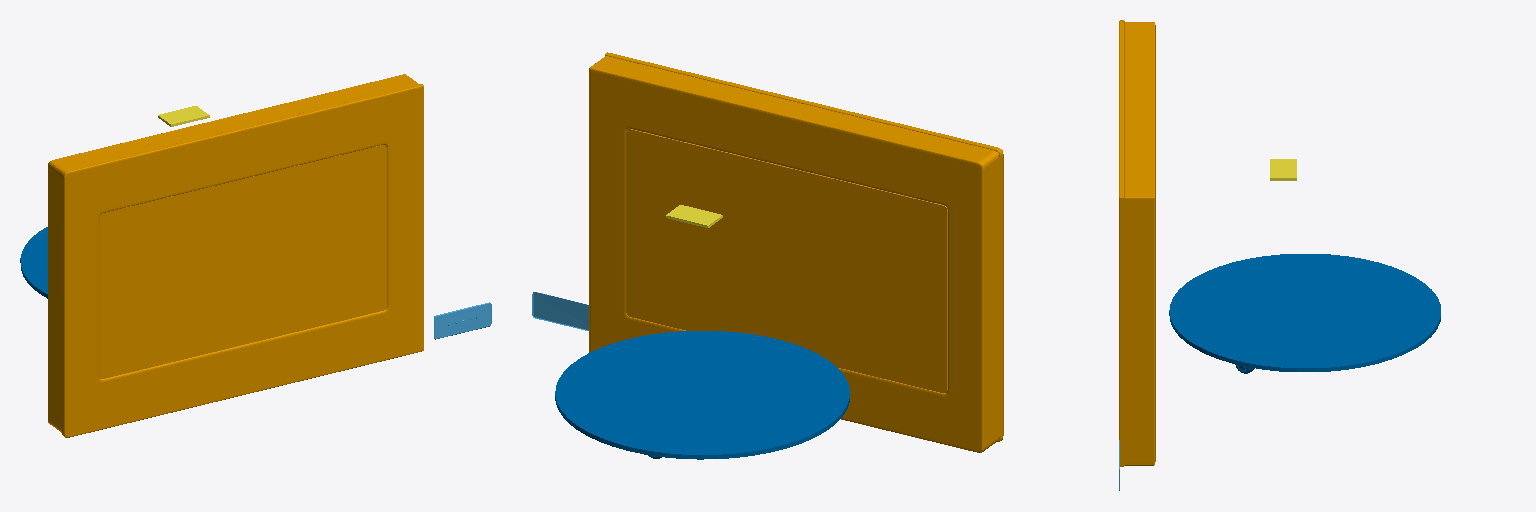
The robot description file, URDF, robot "small_appliances__microwave__microwave_1":
<?xml version="1.0"?>
<robot name="small_appliances__microwave__microwave_1">
  <link name="link_1">
    <visual>
      <origin xyz="0.000000000 0.000000000 0.000000000" rpy="0.000000000 0.000000000 0.000000000"/>
      <geometry>
        <mesh filename="./meshes/link_1.obj"/>
      </geometry>
    </visual>
    <collision>
      <origin xyz="0.000000000 0.000000000 0.000000000" rpy="0.000000000 0.000000000 0.000000000"/>
      <geometry>
        <mesh filename="./meshes/link_1.obj"/>
      </geometry>
    </collision>
  </link>
  <link name="link_11">
    <visual>
      <origin xyz="0.000000000 0.000000000 0.000000000" rpy="0.000000000 0.000000000 0.000000000"/>
      <geometry>
        <mesh filename="./meshes/link_11.obj"/>
      </geometry>
    </visual>
    <collision>
      <origin xyz="0.000000000 0.000000000 0.000000000" rpy="0.000000000 0.000000000 0.000000000"/>
      <geometry>
        <mesh filename="./meshes/link_11.obj"/>
      </geometry>
    </collision>
  </link>
  <link name="link_12">
    <visual>
      <origin xyz="0.000000000 0.000000000 0.000000000" rpy="0.000000000 0.000000000 0.000000000"/>
      <geometry>
        <mesh filename="./meshes/link_12.obj"/>
      </geometry>
    </visual>
    <collision>
      <origin xyz="0.000000000 0.000000000 0.000000000" rpy="0.000000000 0.000000000 0.000000000"/>
      <geometry>
        <mesh filename="./meshes/link_12.obj"/>
      </geometry>
    </collision>
  </link>
  <link name="link_23">
    <visual>
      <origin xyz="0.000000000 0.000000000 0.000000000" rpy="0.000000000 0.000000000 0.000000000"/>
      <geometry>
        <mesh filename="./meshes/link_23.obj"/>
      </geometry>
    </visual>
    <collision>
      <origin xyz="0.000000000 0.000000000 0.000000000" rpy="0.000000000 0.000000000 0.000000000"/>
      <geometry>
        <mesh filename="./meshes/link_23.obj"/>
      </geometry>
    </collision>
  </link>
  <link name="link_7">
    <visual>
      <origin xyz="0.000000000 0.000000000 0.000000000" rpy="0.000000000 0.000000000 0.000000000"/>
      <geometry>
        <mesh filename="./meshes/link_7.obj"/>
      </geometry>
    </visual>
    <collision>
      <origin xyz="0.000000000 0.000000000 0.000000000" rpy="0.000000000 0.000000000 0.000000000"/>
      <geometry>
        <mesh filename="./meshes/link_7.obj"/>
      </geometry>
    </collision>
  </link>
  <joint name="joint_0" type="revolute">
    <parent link="link_12"/>
    <child link="link_1"/>
    <origin xyz="-0.270511687 0.037698101 -0.056284498" rpy="0.000000000 -0.000000000 0.000000000"/>
    <axis xyz="0.000000000 0.000000000 1.000000000"/>
    <limit lower="-1.570796327" upper="0.000000000" effort="1000" velocity="100"/>
  </joint>
  <joint name="joint_1" type="revolute">
    <parent link="link_12"/>
    <child link="link_7"/>
    <origin xyz="-0.037514400 0.203393206 -0.245856002" rpy="0.000000000 -0.000000000 0.000000000"/>
    <axis xyz="0.000000000 0.000000000 1.000000000"/>
    <limit lower="-3.141592654" upper="0.000000000" effort="1000" velocity="100"/>
  </joint>
  <joint name="joint_2" type="prismatic">
    <parent link="link_12"/>
    <child link="link_11"/>
    <origin xyz="0.242999598 -0.002999200 -0.304165214" rpy="0.000000000 -0.000000000 0.000000000"/>
    <axis xyz="0.000000000 1.000000000 0.000000000"/>
    <limit lower="0.000000000" upper="0.010000000" effort="1000" velocity="100"/>
  </joint>
  <joint name="joint_3" type="fixed">
    <parent link="link_12"/>
    <child link="link_23"/>
    <origin xyz="-0.011160500 0.163909600 -0.064876400" rpy="0.000000000 -0.000000000 0.000000000"/>
  </joint>
</robot>

--- Facts derived from the render (not from the file) ---
3 views of the same robot in one strip: view 1: azimuth 30°, elevation 25°; view 2: azimuth 150°, elevation 25°; view 3: azimuth 270°, elevation 25° (orthographic).
Model small_appliances__microwave__microwave_1 with 5 links and 4 joints (2 revolute, 1 prismatic, 1 fixed), rooted at link_12, posed every joint at zero.
Visible links, largest first — view 1: link_1, link_11, link_7, link_23; view 2: link_1, link_7, link_11, link_23; view 3: link_7, link_1, link_23.
Boxes of the visible links, x1,y1,x2,y2 form: link_1: (48, 74, 423, 437); link_11: (434, 302, 491, 339); link_7: (20, 227, 47, 298); link_23: (158, 106, 209, 126); link_1: (589, 52, 1003, 452); link_7: (555, 331, 849, 459); link_11: (532, 292, 588, 330); link_23: (666, 205, 722, 227); link_7: (1169, 254, 1440, 373); link_1: (1119, 20, 1155, 466); link_23: (1270, 159, 1296, 180).
Bounding box of the posed robot: 0.5529 × 0.3561 × 0.3288 m (x, y, z).
Meshes: 5 distinct files referenced, 4 mesh visuals loaded (4 OBJ); not drawn: 1 (reference not matched to a file when rendering).
